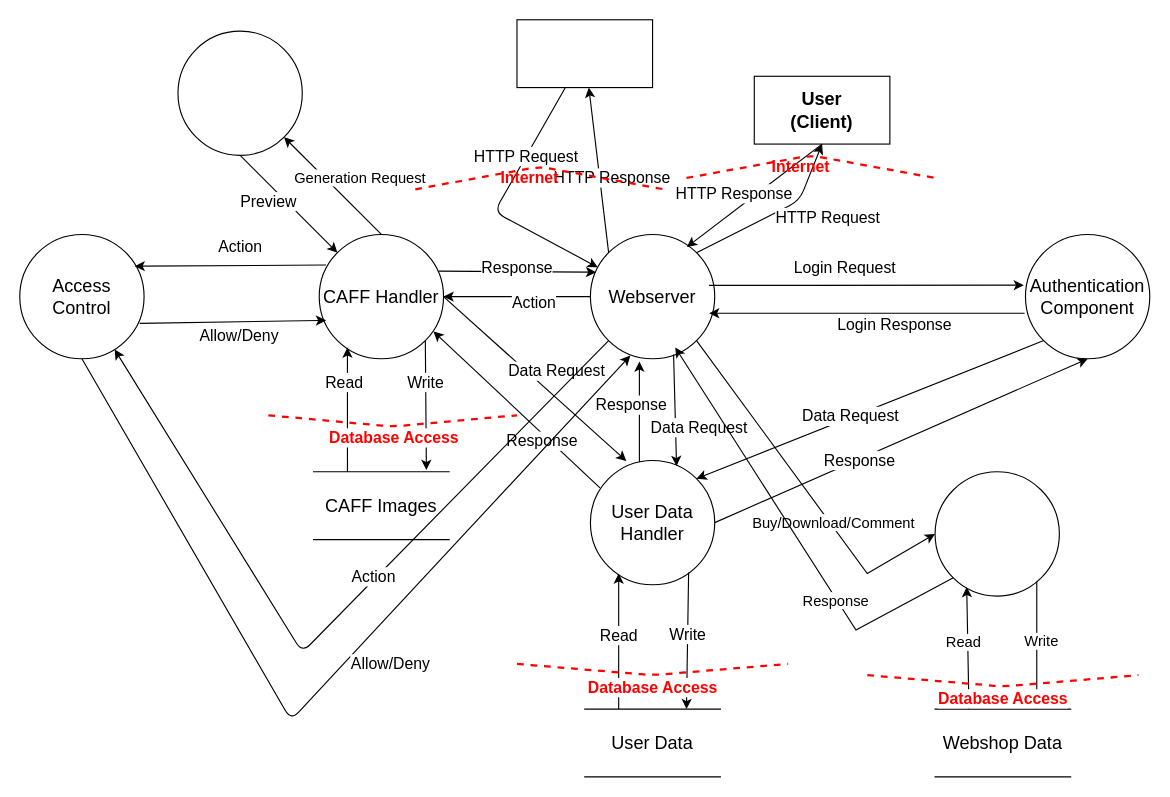
Some shapes in this 1170 by 797 pixel diagram are drawn without their labels. Each missing label, with the centre of its shape:
Admin (Client): the point at 584,53
Preview Generator: the point at 239,92
Webshop: the point at 996,533
